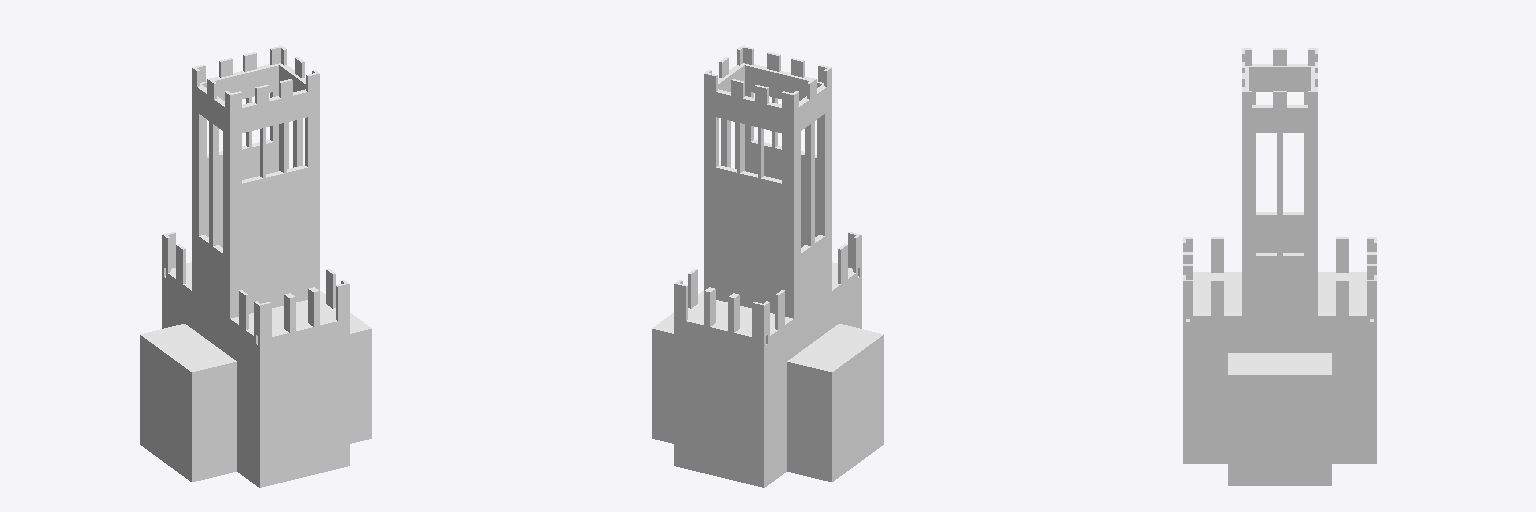
Rendered from KingTower.obj.
3 renders of one model, left to right at view 1: azimuth 30°, elevation 25°; view 2: azimuth 150°, elevation 25°; view 3: azimuth 270°, elevation 25°, orthographic.
Parts seen in each view (by area): view 1: object 1; view 2: object 1; view 3: object 1.
Boxes of the visible parts, x1=… form: object 1: x1=140, y1=46, x2=371, y2=487; object 1: x1=652, y1=46, x2=883, y2=487; object 1: x1=1183, y1=48, x2=1376, y2=485.
Bounding box in the file's own units: 6 × 11.8 × 5.6.